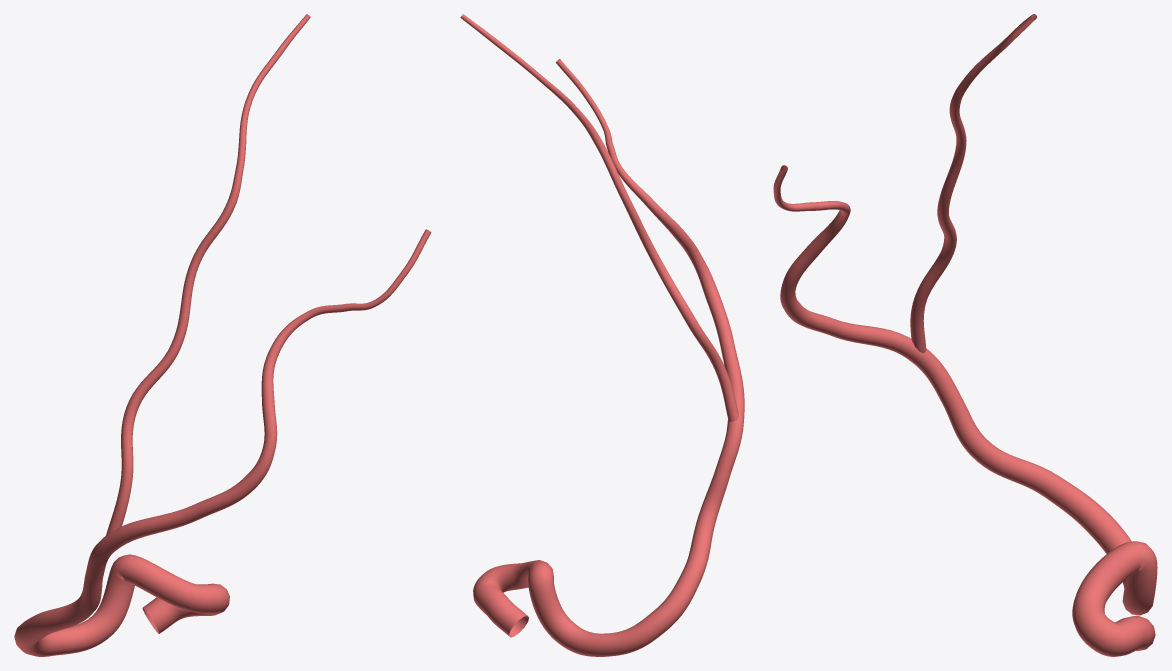
The model's file is Prefrontal_artery.r_BezierCurve.187.glb.
3 renders of one model, left to right at view 1: azimuth 30°, elevation 25°; view 2: azimuth 150°, elevation 25°; view 3: azimuth 270°, elevation 25°, orthographic. The views are drawn at different scales.
Parts seen in each view (by area): view 1: Prefrontal_artery.r_BezierCurve.187; view 2: Prefrontal_artery.r_BezierCurve.187; view 3: Prefrontal_artery.r_BezierCurve.187.
Part boxes in pixels (left/top/right/bottom): Prefrontal_artery.r_BezierCurve.187: left=14, top=14, right=431, bottom=656; Prefrontal_artery.r_BezierCurve.187: left=460, top=14, right=744, bottom=656; Prefrontal_artery.r_BezierCurve.187: left=773, top=14, right=1157, bottom=656.
Bounding box in the file's own units: 0.0247 × 0.053 × 0.0266.
